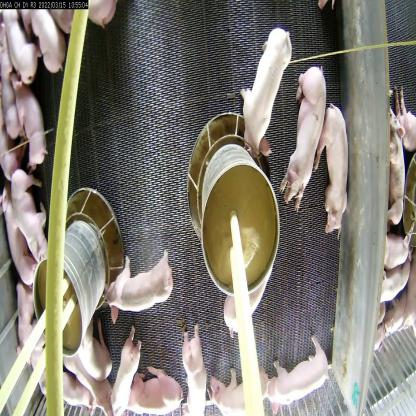Pig: (237, 21, 296, 168), (278, 65, 327, 200), (259, 337, 335, 415), (10, 163, 57, 267), (216, 266, 274, 349), (316, 102, 350, 237), (101, 250, 172, 314), (7, 74, 45, 183), (112, 362, 188, 415), (0, 0, 36, 99), (177, 311, 208, 415), (0, 193, 33, 290), (21, 0, 60, 81), (389, 115, 416, 228), (207, 366, 268, 416), (108, 327, 139, 416), (69, 322, 113, 380)
